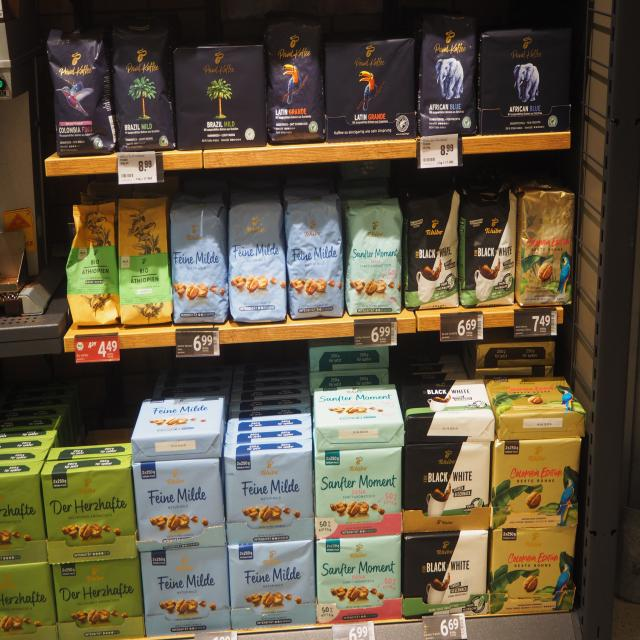AB Bohne: (417, 14, 479, 138)
AB Gemahlen: (480, 27, 573, 136)
Athiopien Bohne: (64, 199, 120, 328)
Athiopien Gemahlen: (116, 194, 174, 330)
BM Bohne: (107, 13, 177, 154)
BM Gemahlen: (171, 43, 268, 153)
BW Bohne: (401, 189, 460, 313), (459, 187, 518, 310)
BW Gemahlen: (404, 442, 492, 535), (402, 530, 489, 619), (399, 379, 494, 422)
C Fino Bohne: (44, 22, 118, 159)
Colombia BB Bohne: (515, 188, 576, 308)
Colombia BB Gemahlen: (490, 437, 583, 529), (488, 527, 579, 616), (483, 375, 588, 416)
Empty Shelf: (54, 395, 141, 445)
FM Bohne: (282, 189, 344, 320), (170, 193, 230, 325), (226, 194, 286, 325)
FM Gemahlen: (131, 456, 227, 553), (222, 449, 316, 547), (138, 545, 232, 638), (227, 539, 317, 633), (129, 395, 225, 441)
Herzhatfe Mundig: (40, 466, 138, 568), (50, 557, 146, 640)
LG Bohne: (263, 15, 327, 146)
LG Gemahlen: (324, 36, 417, 143)
SM Bohne: (343, 195, 404, 316)
SM Gemahlen: (313, 446, 403, 541), (315, 534, 403, 626), (313, 383, 405, 429)
